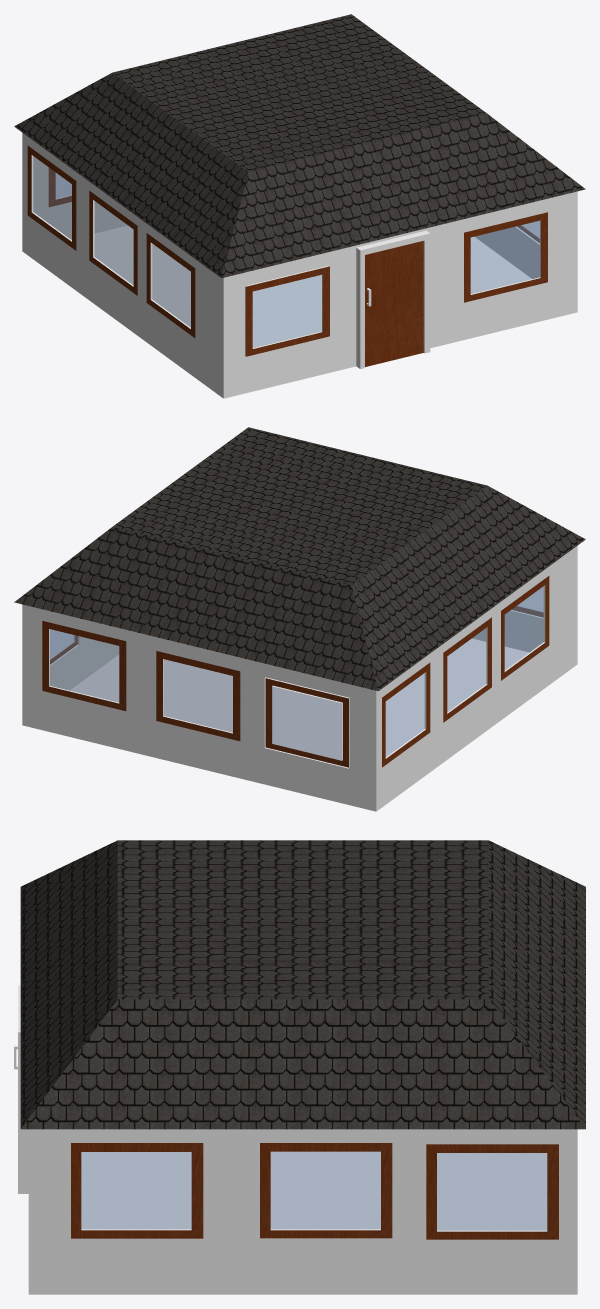
Rendered from Test house.glb.
3 views of the same model, one above another, from view 1: azimuth 30°, elevation 25°; view 2: azimuth 150°, elevation 25°; view 3: azimuth 270°, elevation 25° (orthographic). The views are drawn at different scales.
Visible parts, largest first — view 1: Root Node; view 2: Root Node; view 3: Root Node.
Part boxes in pixels (left/top/right/bottom): Root Node: left=14, top=14, right=585, bottom=398; Root Node: left=14, top=427, right=585, bottom=811; Root Node: left=14, top=840, right=585, bottom=1294.
Size of the model in its own units: 7.02 by 3.47 by 7.
222 materials, 17 textured.
